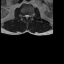CCS_normal: (26, 13, 27, 20)
LFS_normal: (29, 14, 31, 18)
LLS_normal: (27, 13, 29, 19)
RFS_stenosis: (22, 14, 24, 18)
RLS_normal: (24, 13, 26, 18)
